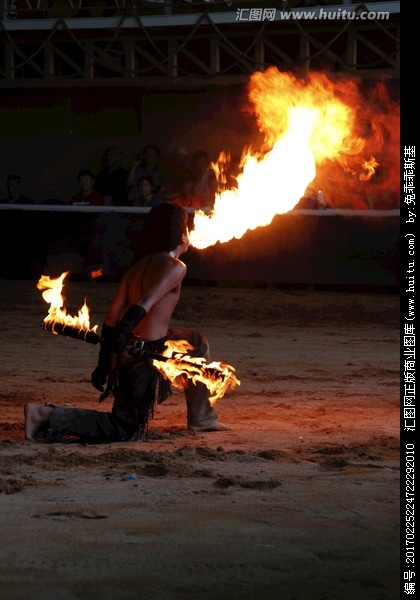fire: (186, 60, 369, 251), (152, 339, 237, 401), (36, 268, 91, 334)
